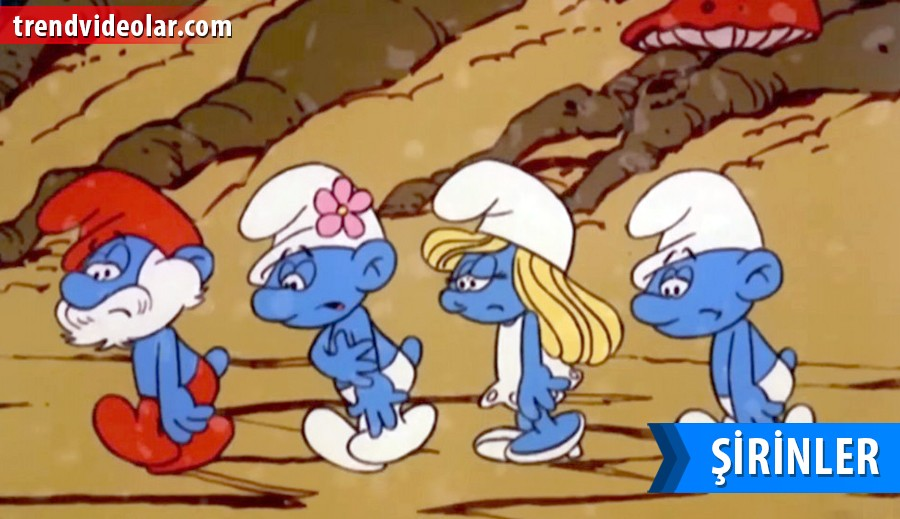smurf: (35, 167, 238, 476), (237, 161, 438, 473), (421, 160, 623, 463), (620, 168, 816, 440)
